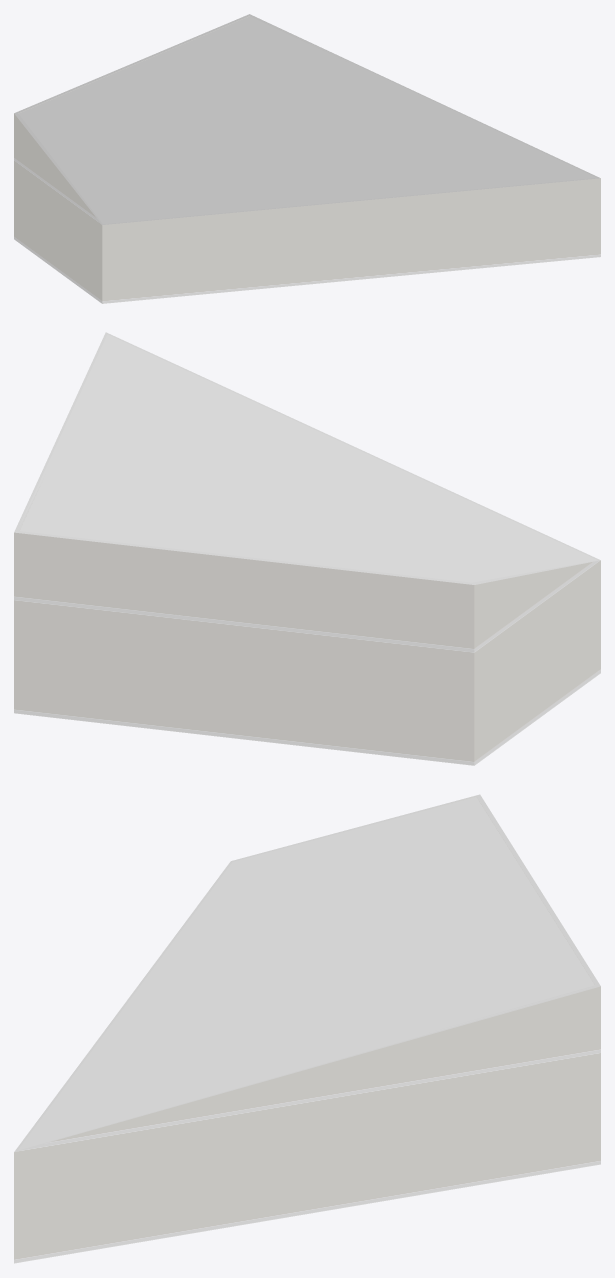
3 renders of one model, top to bottom at view 1: azimuth 30°, elevation 25°; view 2: azimuth 150°, elevation 25°; view 3: azimuth 270°, elevation 25°, orthographic. The views are drawn at different scales.
Parts seen in each view (by area): view 1: object 2, wall (×2), object 17, object 11, object 23, object 5; view 2: wall (×2), object 2, object 23, object 11, object 17; view 3: object 2, wall, object 17, object 23, object 11.
Boxes of the visible parts, x1,y1,x2,y2 form: object 2: (19, 16, 596, 224); wall (×2): (14, 113, 600, 303); object 17: (249, 14, 600, 178); object 11: (103, 178, 599, 224); object 23: (14, 14, 249, 113); object 5: (14, 113, 102, 224); wall (×2): (14, 532, 600, 765); object 2: (18, 334, 597, 582); object 23: (14, 531, 473, 584); object 11: (106, 332, 600, 560); object 17: (14, 332, 107, 532); object 2: (18, 797, 594, 1150); wall: (14, 986, 600, 1263); object 17: (15, 985, 600, 1151); object 23: (476, 794, 600, 986); object 11: (14, 861, 232, 1151).
Bounding box in the file's own units: 1401 × 400 × 1194.
28 materials, 11 textured.
